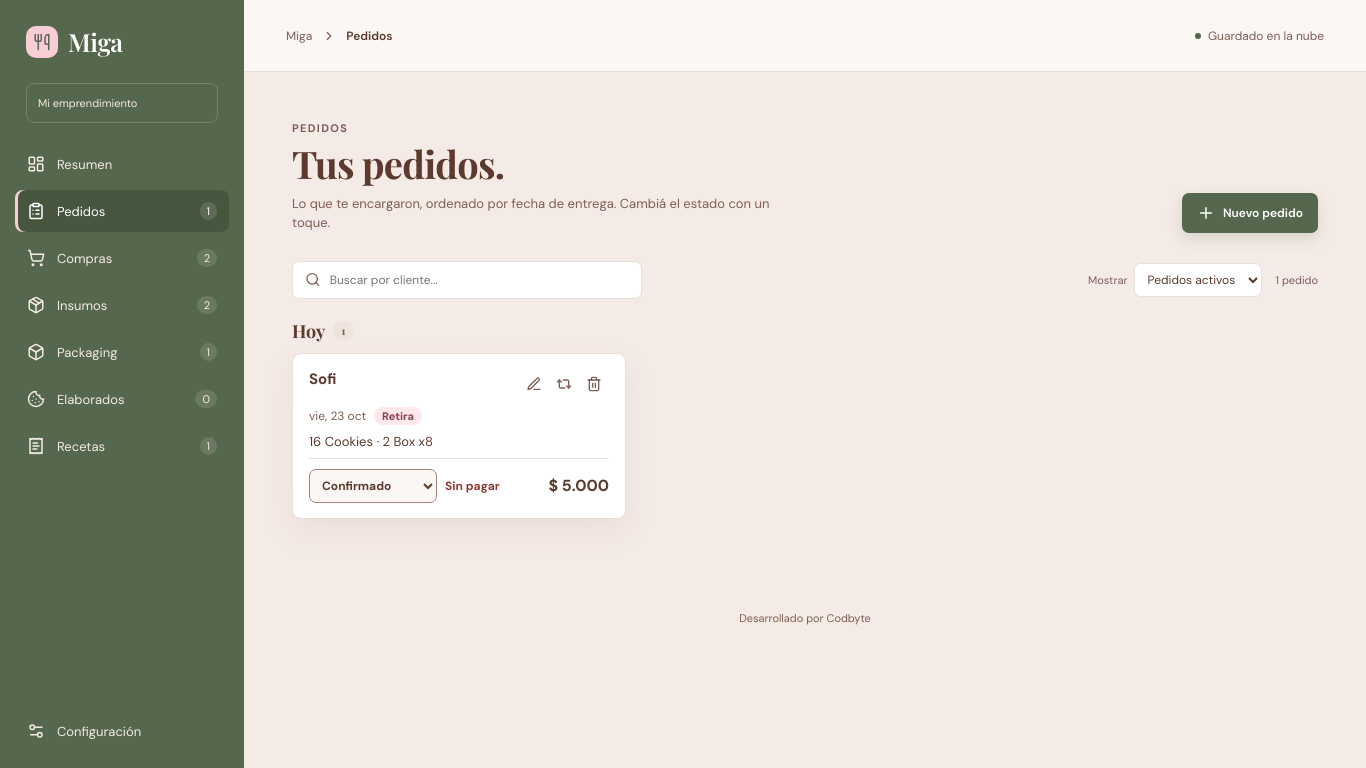
Order stock › says what is missing and does not change the status
Select "En preparación" in the dropdown named "Estado del pedido de Sofi": (373, 486) [309,469,437,503]
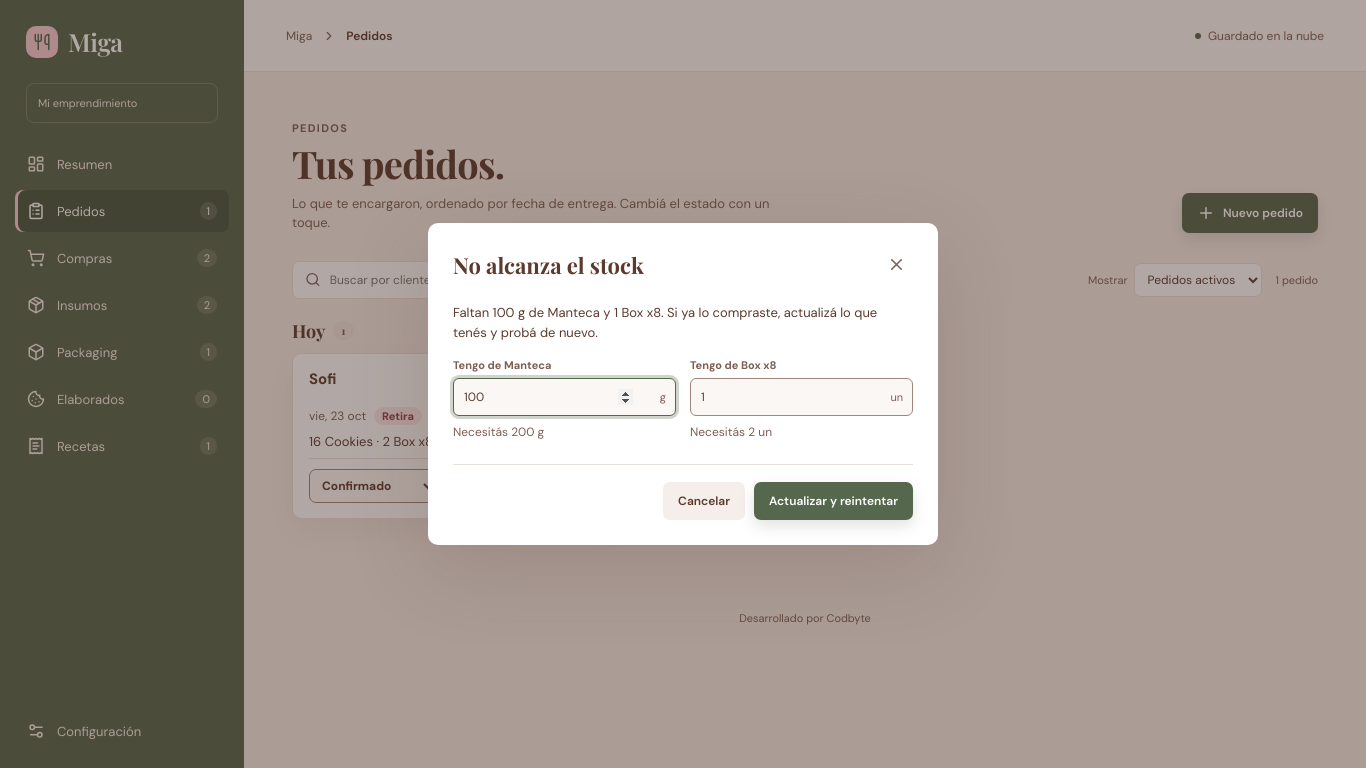
Expected: the dialog shows "Faltan 100 g de Manteca y 1 Box x8", [428,223,938,545]
